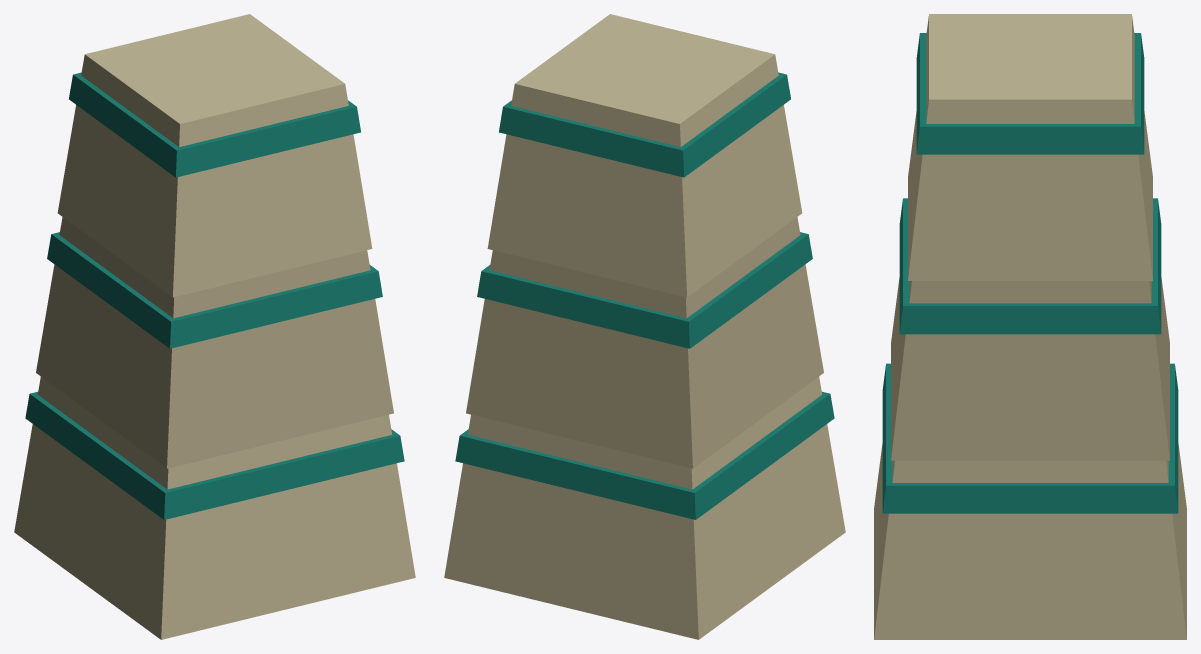
File: wall_t2_post.glb
3 views of the same model, side by side, from view 1: azimuth 30°, elevation 25°; view 2: azimuth 150°, elevation 25°; view 3: azimuth 270°, elevation 25° (orthographic). The views are drawn at different scales.
Visible parts, largest first — view 1: body; view 2: body; view 3: body.
Part boxes in pixels (bbox=[...]): body: bbox=[14, 14, 415, 639]; body: bbox=[444, 14, 845, 639]; body: bbox=[874, 14, 1186, 639].
Size of the model in its own units: 0.74 by 1.35 by 0.74.
